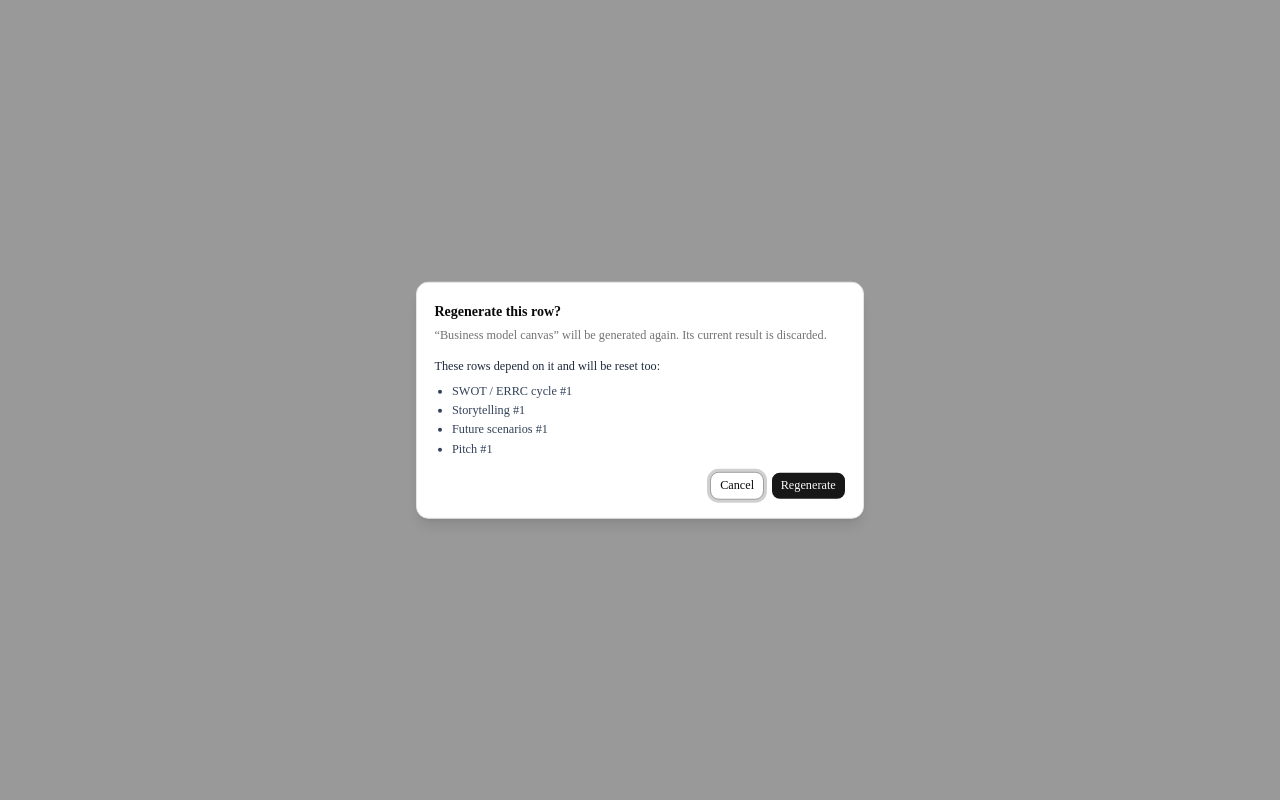
it: TabActions (Regenerate in the tab bar) › keeps the dialog open with the message and reloads when be answers 409
The width and height of the screenshot is (1280, 800).
Earlier steps of the test are not shown.
Click the button "Regenerate".
click(808, 486)  # box [771,472,846,500]
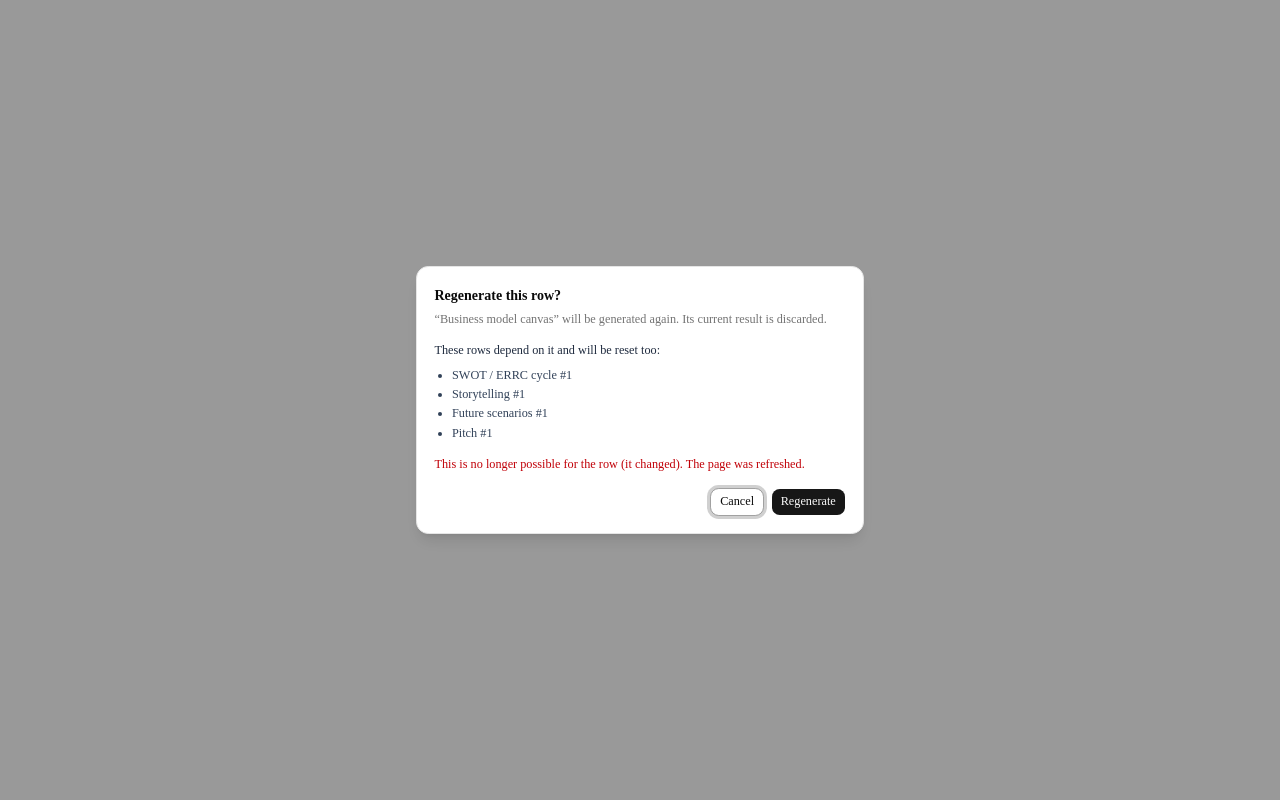
Expected: the text "This is no longer possible for the row (it changed). The page was refreshed." is shown, [434,456,846,474]
